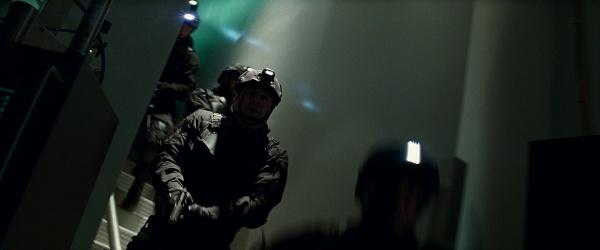Gun: (168, 188, 189, 224)
